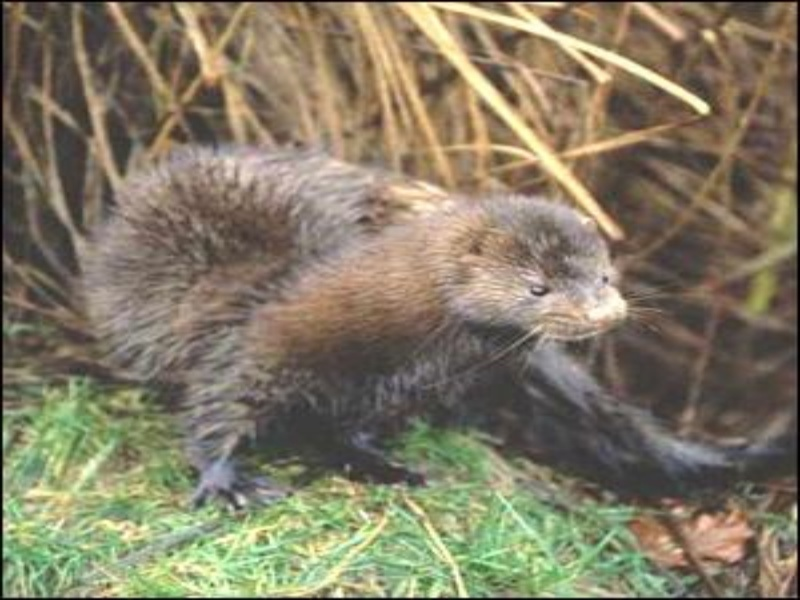minkish: (74, 145, 768, 518)
